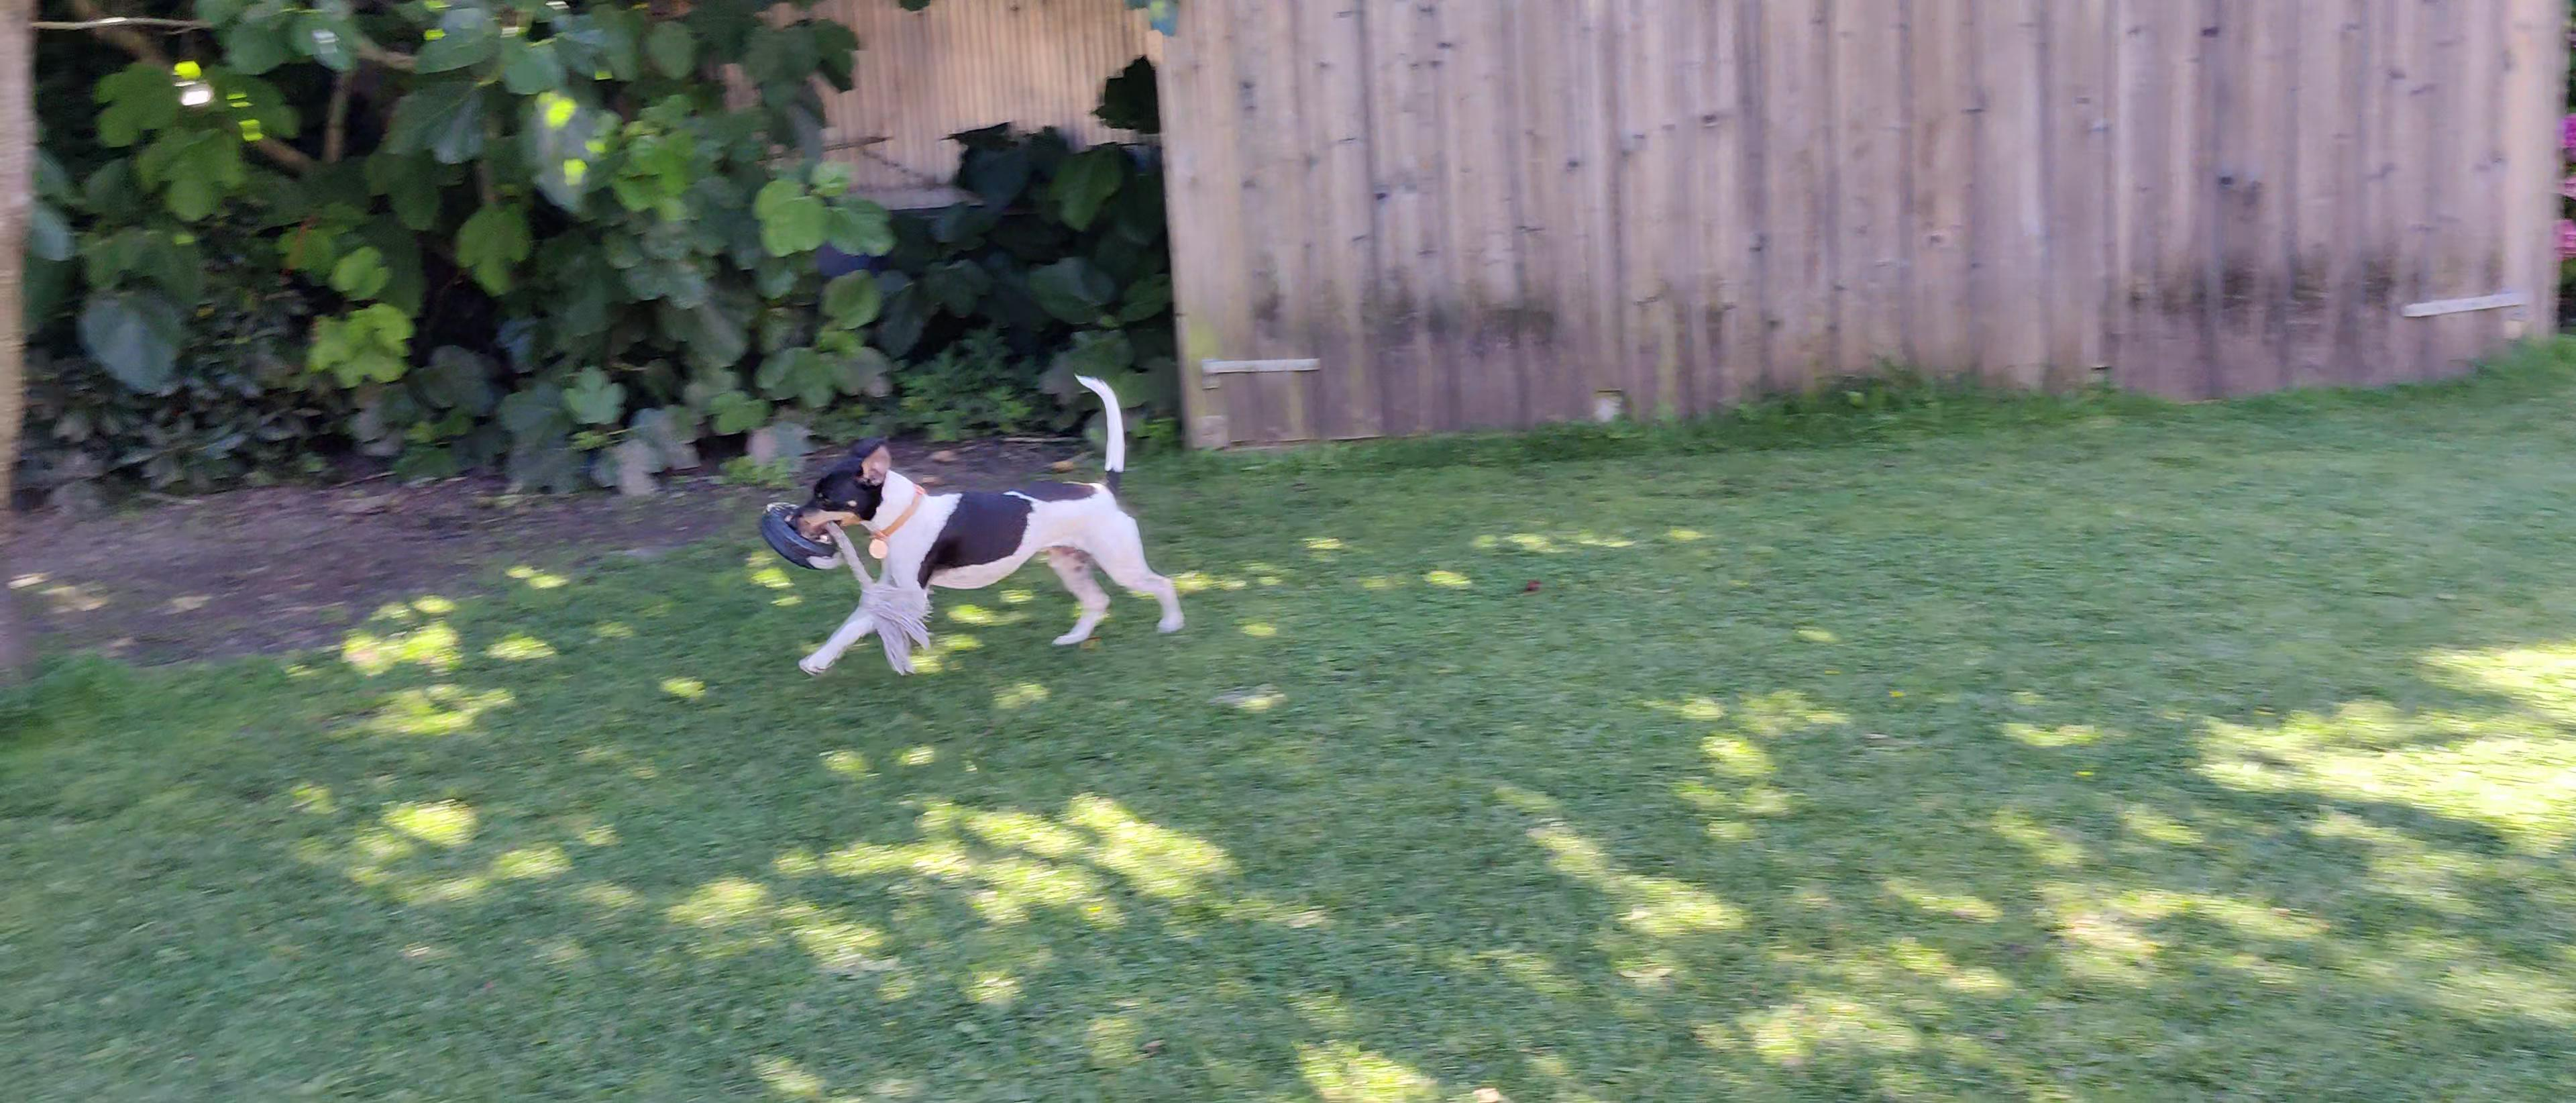Dog: (784, 368, 1189, 681)
